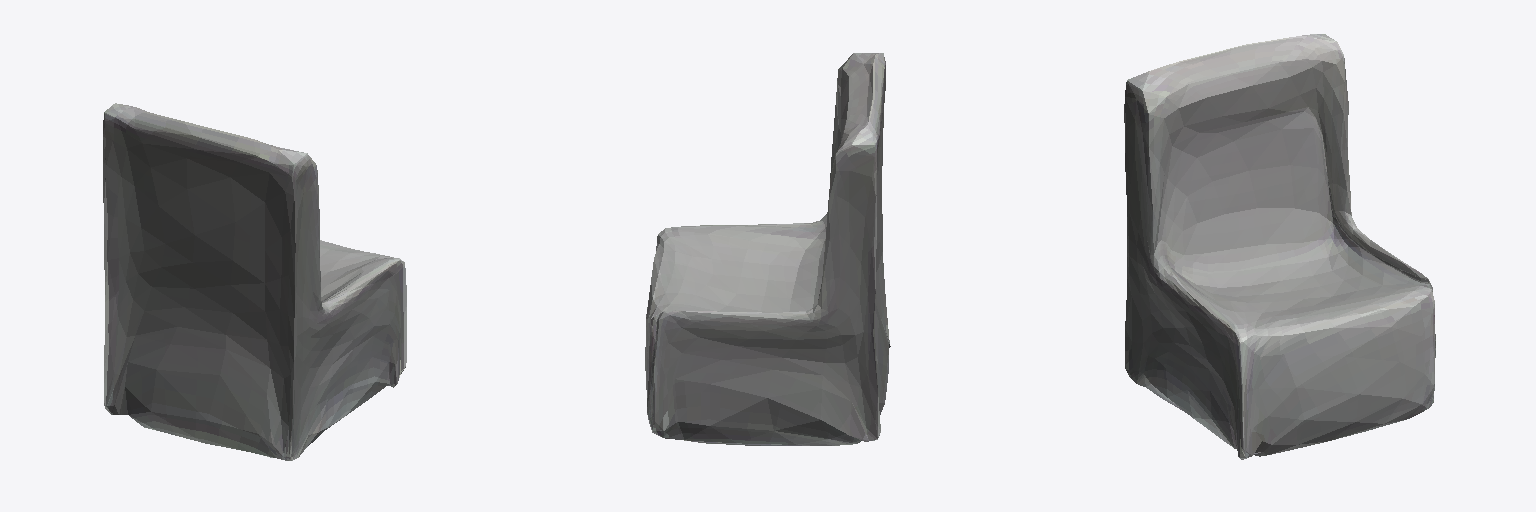
3 views of the same model, side by side, from view 1: azimuth 30°, elevation 25°; view 2: azimuth 150°, elevation 25°; view 3: azimuth 270°, elevation 25° (orthographic).
Size of the model in its own units: 0.8241 by 1 by 0.8379.
Materials: 1 (1 with a texture image).